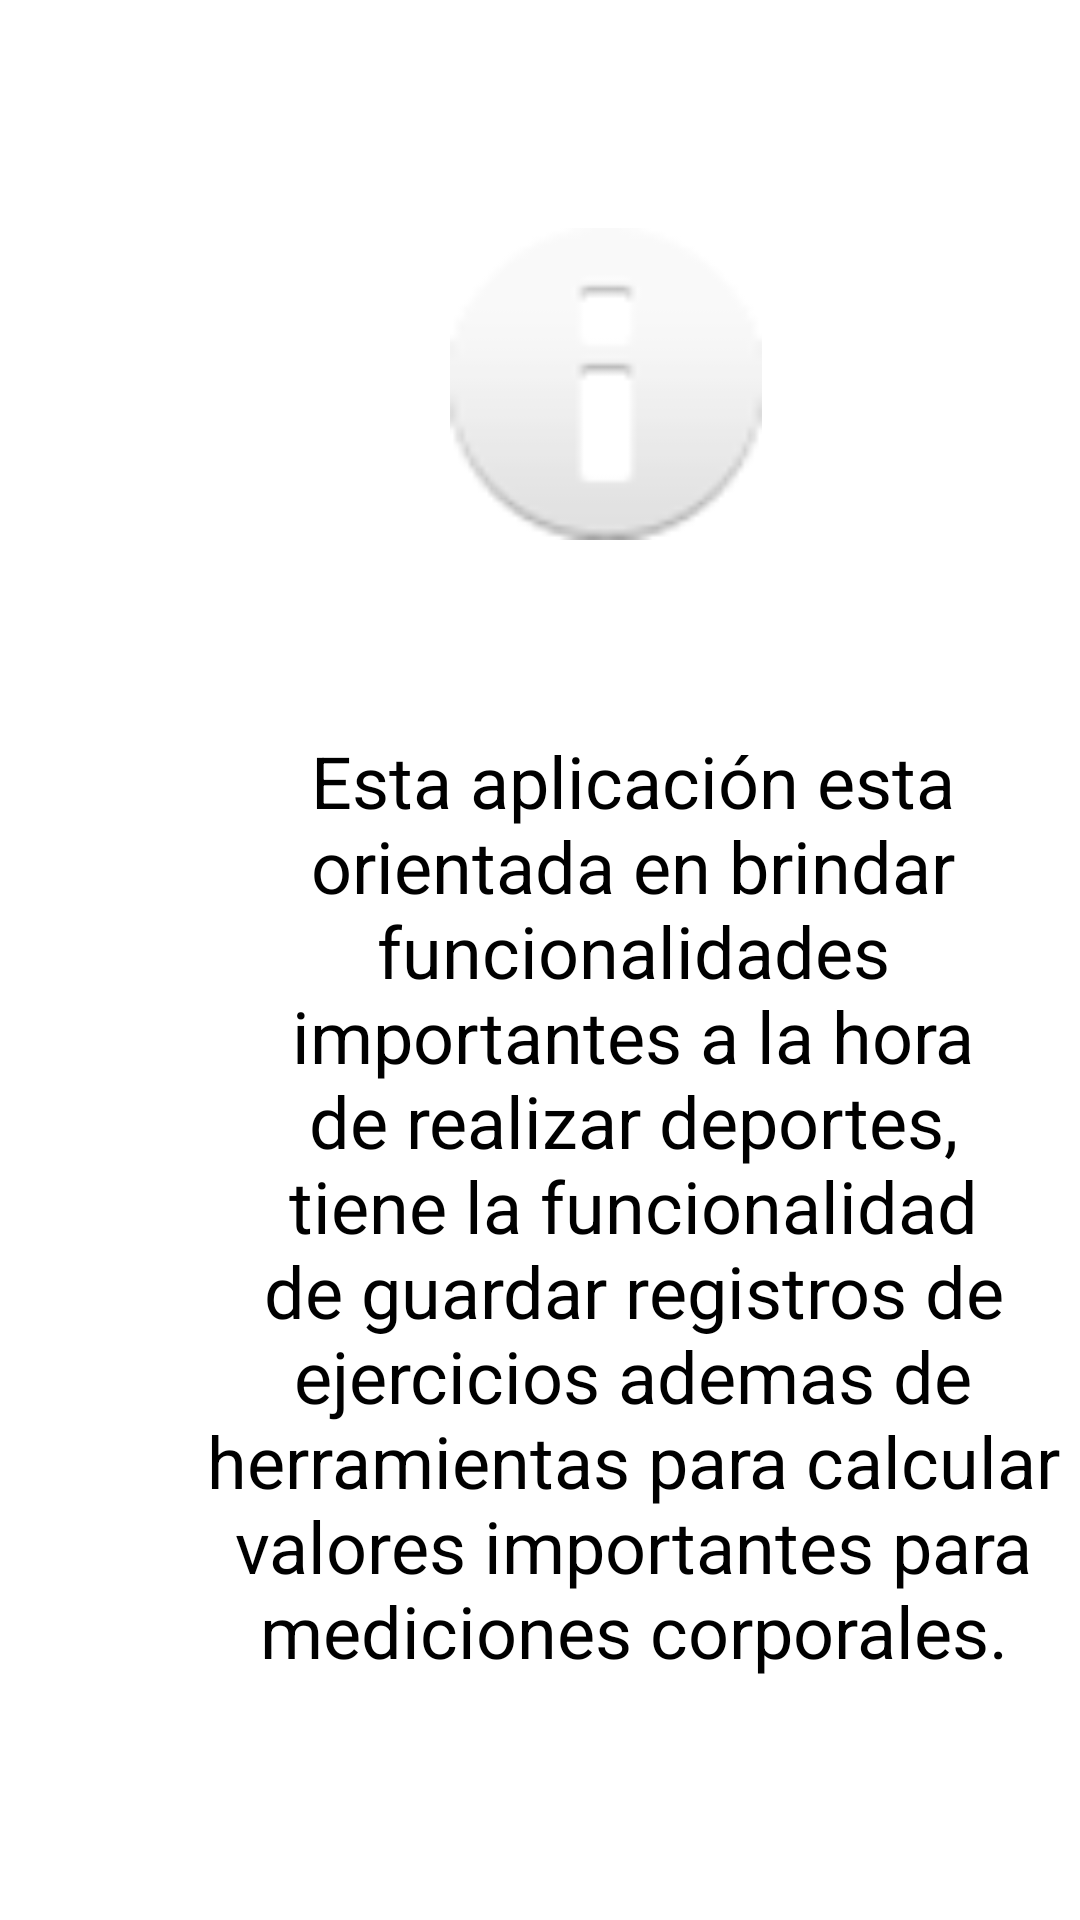

Icons on this 1080px x 1920px Android screen, each with its box as (left=x1, top=y1, right=x2, bottom=y2):
info: (left=450, top=285, right=762, bottom=540)
